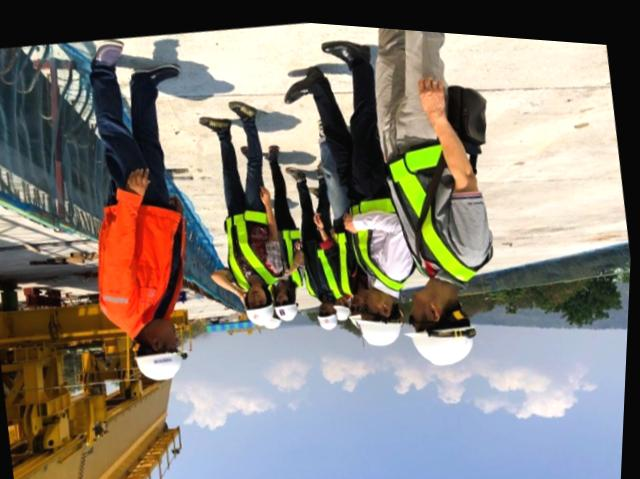helmet: (407, 308, 497, 379), (349, 299, 409, 346), (243, 295, 283, 323), (313, 304, 346, 328), (274, 296, 307, 318), (259, 311, 287, 329), (333, 296, 358, 315)
vest: (372, 121, 495, 280), (338, 182, 430, 284), (215, 202, 294, 285), (293, 237, 355, 300), (127, 340, 201, 384), (264, 223, 306, 289)
